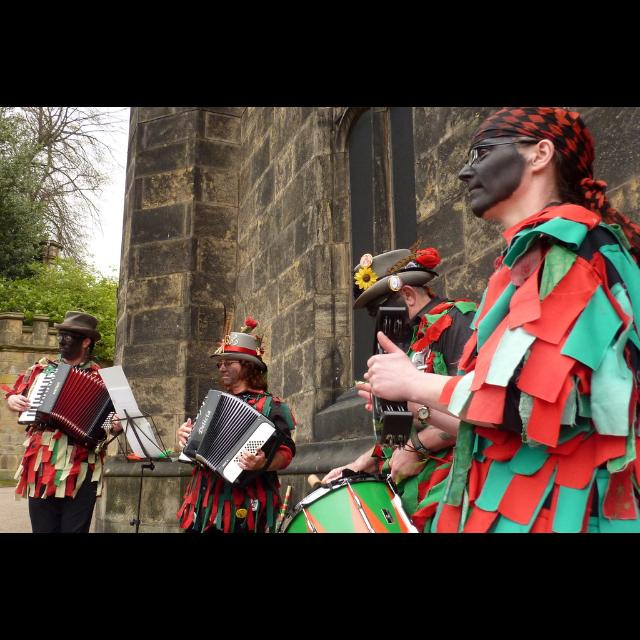Flower: (354, 264, 381, 290)
